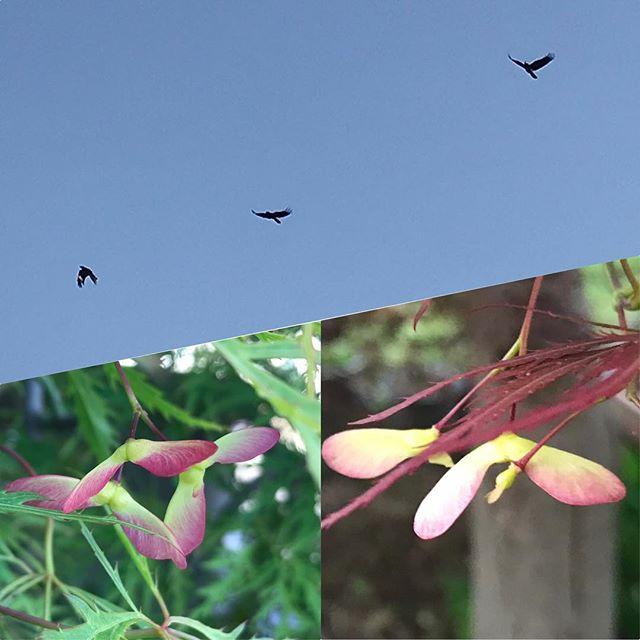bird: (505, 51, 553, 79), (252, 207, 294, 224), (75, 264, 97, 288)
